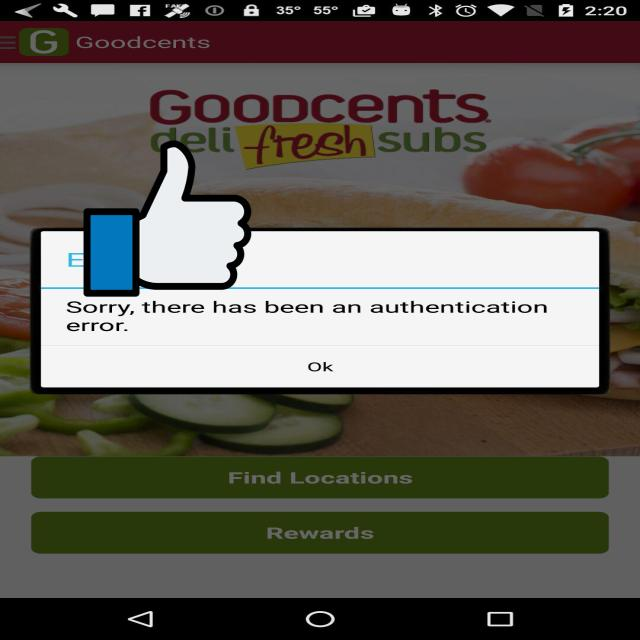privacy zuckering: (84, 137, 251, 300)
